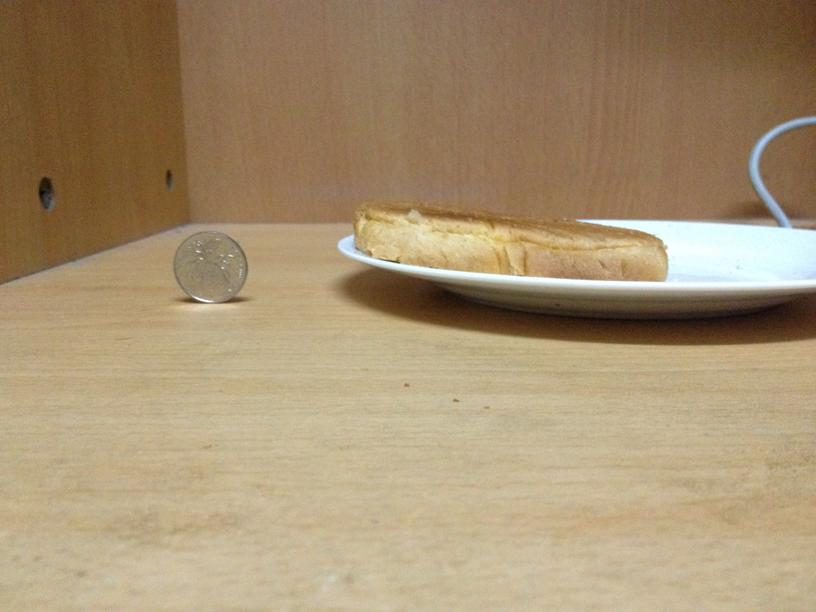bread: (350, 206, 671, 281)
coin: (171, 232, 248, 303)
